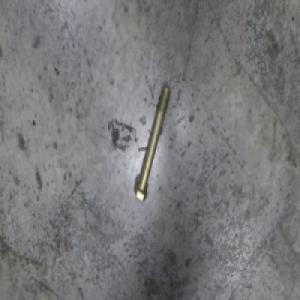Bolt: (131, 85, 174, 200)
